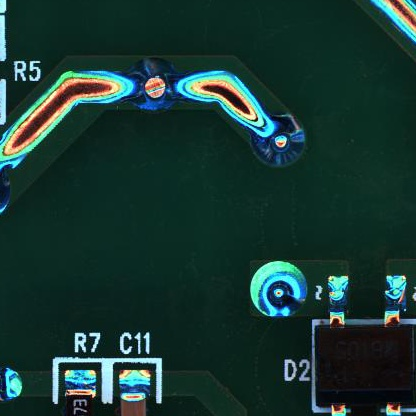spot: (251, 259, 307, 319), (127, 55, 181, 113), (250, 114, 305, 167)
